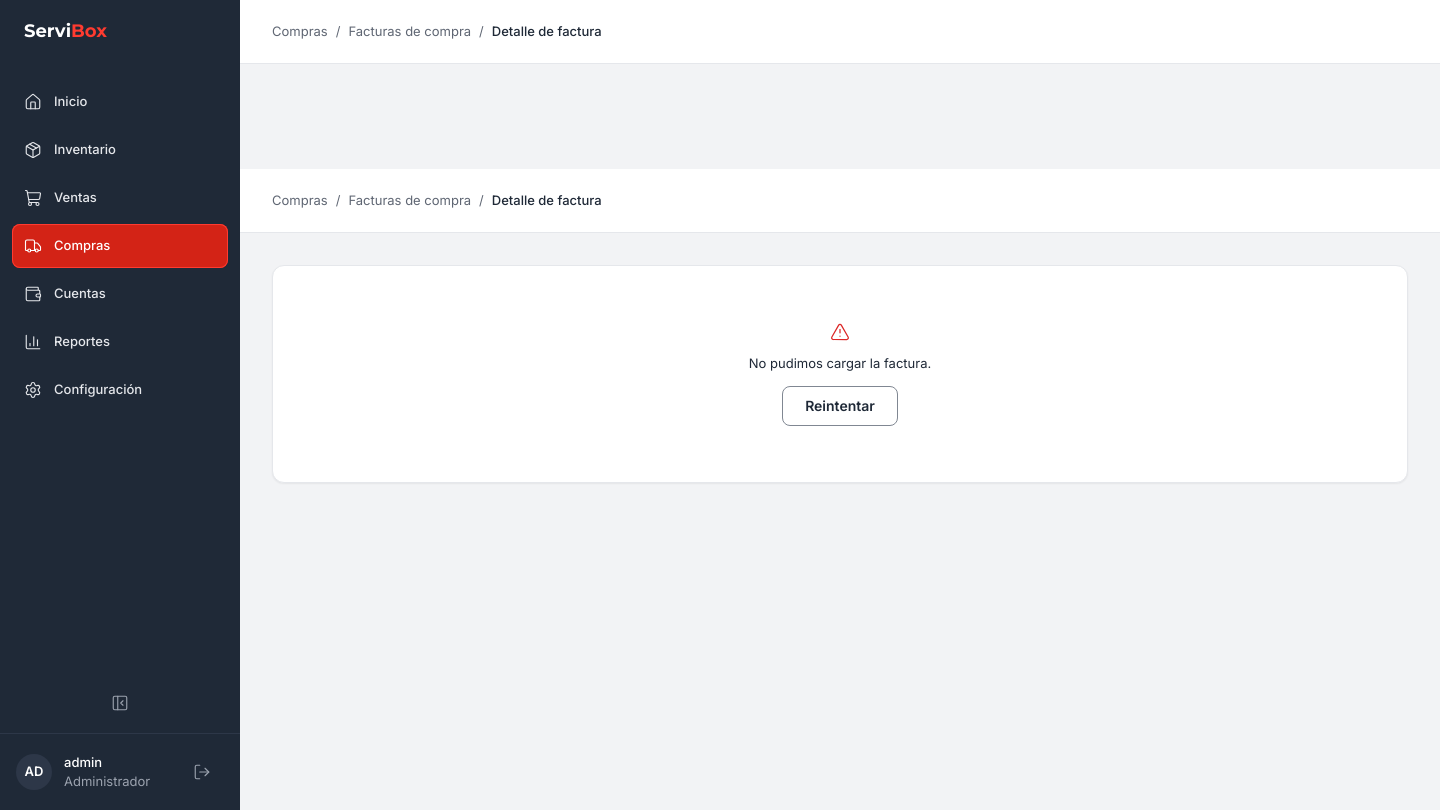
Scenario: detalle de factura de compra › carga con skeleton, y cada bloque falla y se reintenta por separado
(page scrolled)
Step 1. Click the button "Reintentar" → (840, 406), box [782,386,898,426]
(page scrolled)
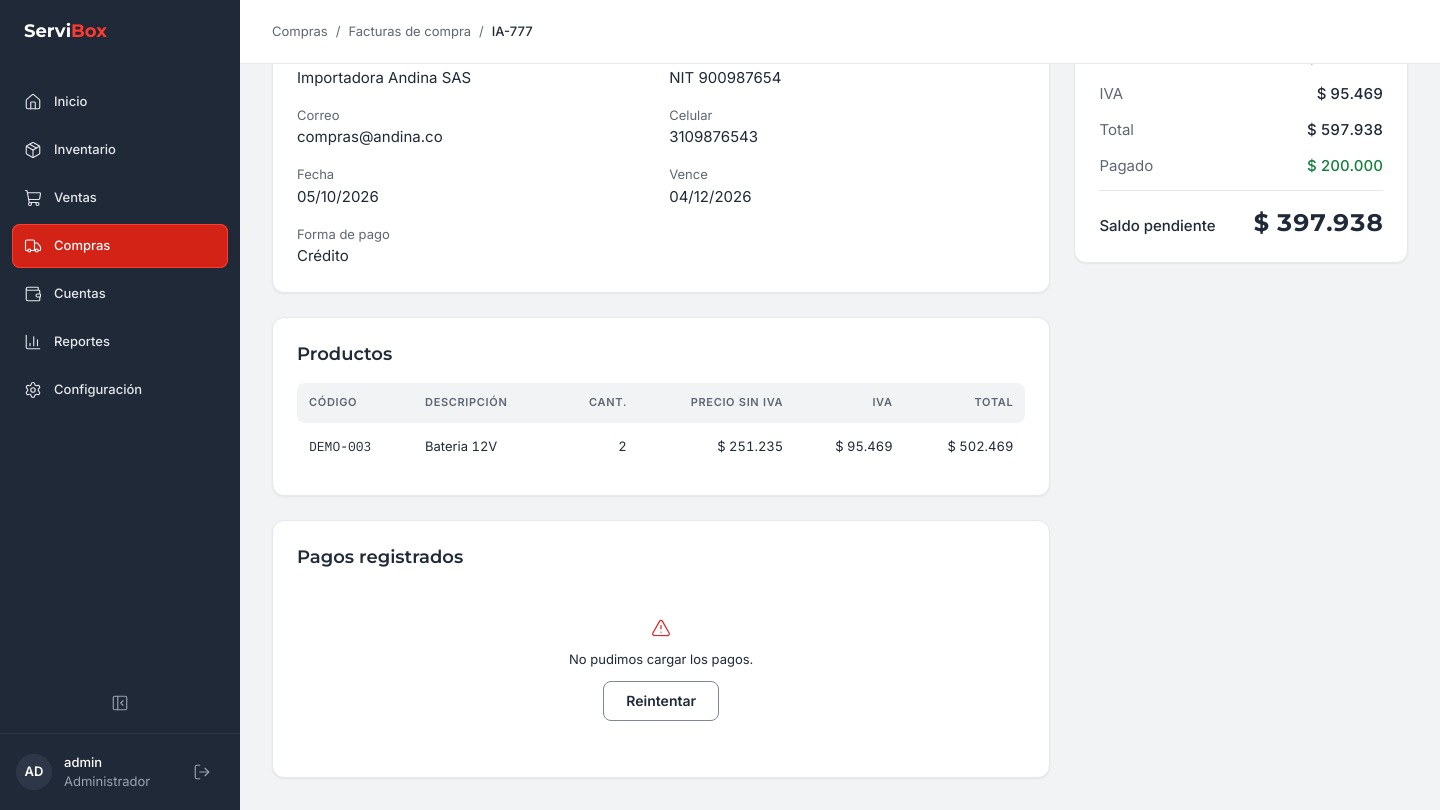
Step 2. Click the button "Reintentar" → (661, 701), box [603,681,719,721]
(page scrolled)
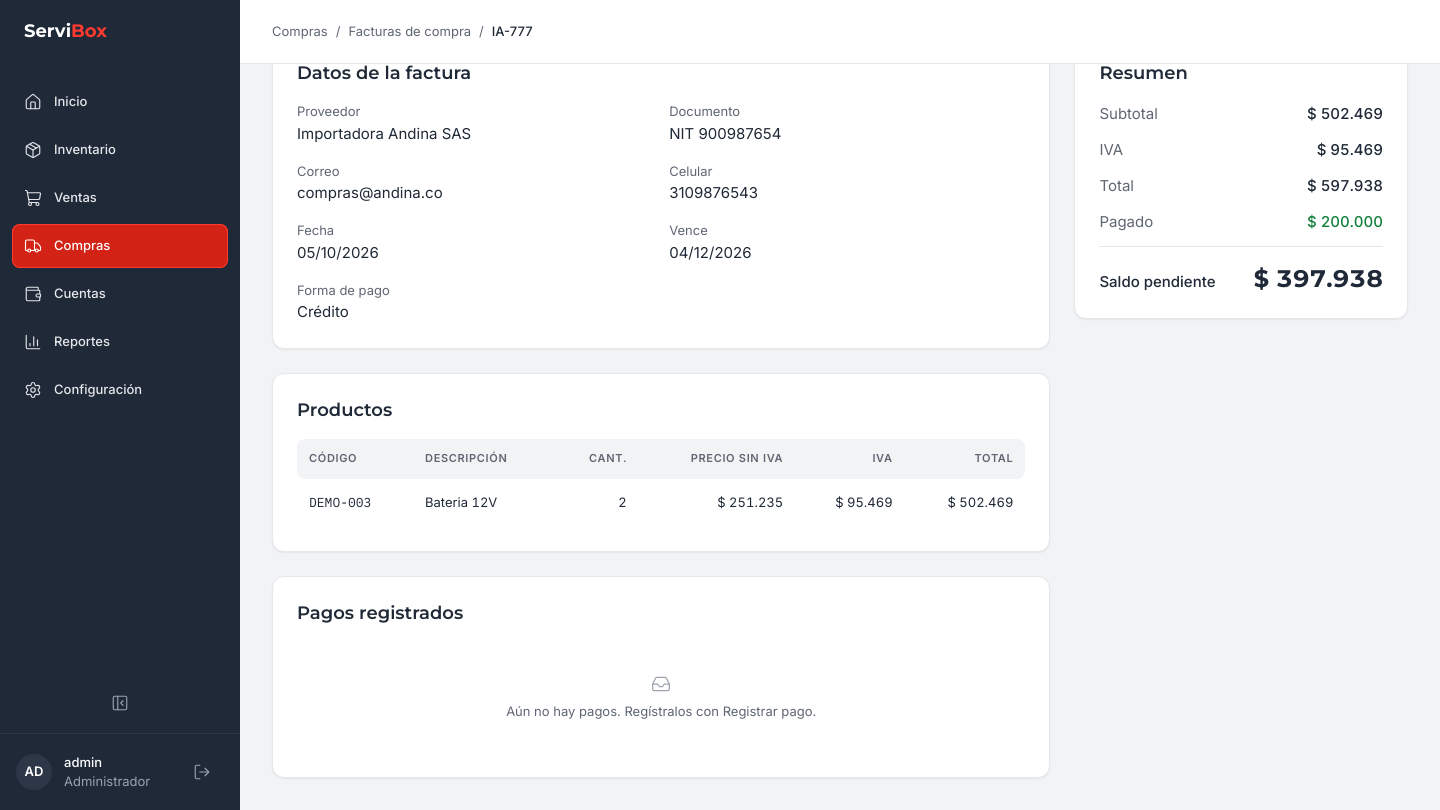
Expected: the text "Aún no hay pagos. Regístralos con Registrar pago." is shown, [506,702,816,721]
